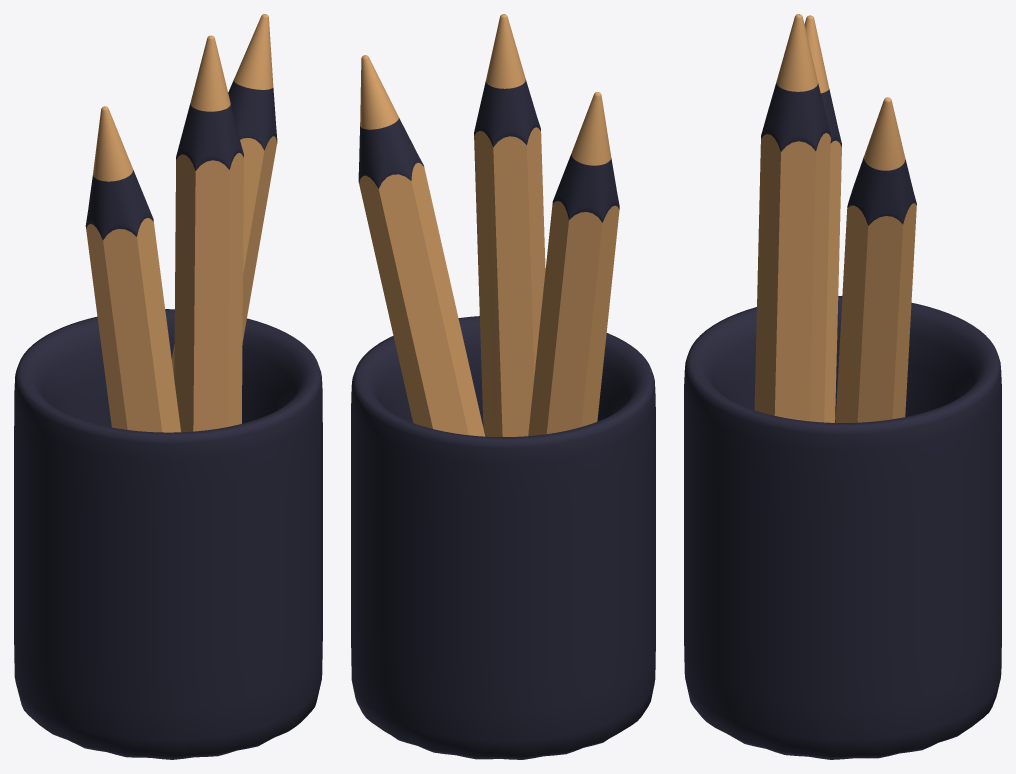
The model's file is Stifte.gltf.
The picture shows the model from 3 angles, left to right: view 1: azimuth 30°, elevation 25°; view 2: azimuth 150°, elevation 25°; view 3: azimuth 270°, elevation 25°; orthographic projection. The views are drawn at different scales.
Visible parts, largest first — view 1: Circle.007; view 2: Circle.007; view 3: Circle.007.
Boxes of the visible parts, x1,y1,x2,y2 form: Circle.007: (14, 14, 322, 759); Circle.007: (351, 14, 655, 759); Circle.007: (684, 14, 1001, 759).
Bounding box in the file's own units: 0.0396 × 0.0961 × 0.0396.
